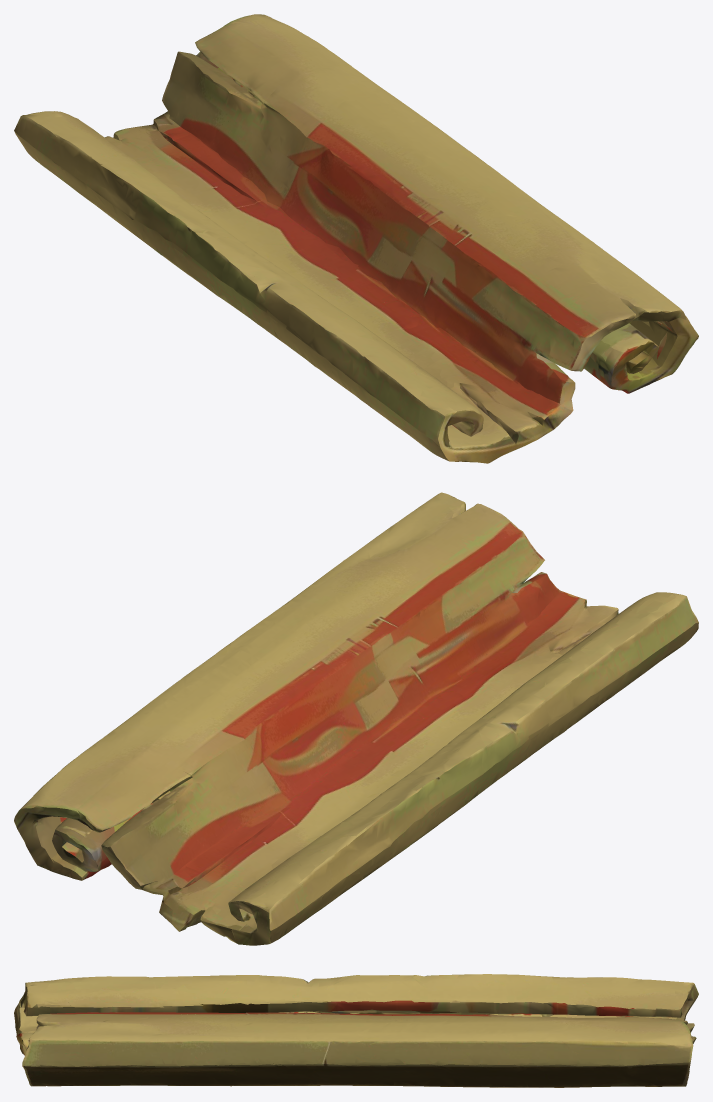
File: item_bind_talisman.glb
3 views of the same model, one above another, from view 1: azimuth 30°, elevation 25°; view 2: azimuth 150°, elevation 25°; view 3: azimuth 270°, elevation 25° (orthographic). The views are drawn at different scales.
Visible parts, largest first — view 1: item_bind_talisman; view 2: item_bind_talisman; view 3: item_bind_talisman.
Boxes of the visible parts, left/top/right/bottom form: item_bind_talisman: left=14, top=14, right=698, bottom=463; item_bind_talisman: left=14, top=492, right=698, bottom=945; item_bind_talisman: left=14, top=974, right=698, bottom=1087.
Bounding box in the file's own units: 0.0794 × 0.0291 × 0.22.
Materials: 1 (1 with a texture image).
